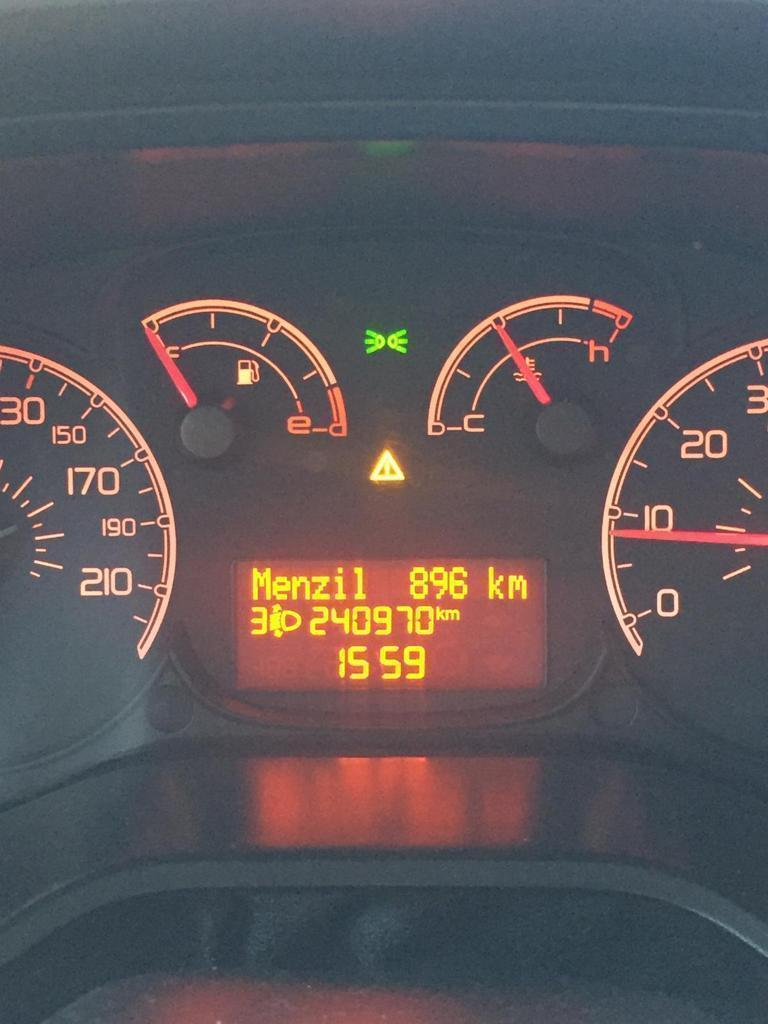0: (413, 604, 435, 636), (350, 604, 371, 636)
1: (334, 643, 345, 681)
2: (307, 604, 329, 637)
3: (248, 605, 268, 636)
4: (330, 605, 350, 636)
5: (376, 643, 401, 680), (346, 644, 370, 681)
6: (449, 564, 469, 602)
7: (394, 604, 413, 636)
8: (406, 565, 429, 600)
9: (401, 644, 426, 681), (371, 604, 393, 637), (429, 565, 447, 600)
X: (250, 564, 271, 602), (485, 563, 506, 601), (349, 564, 367, 602), (507, 572, 529, 601), (309, 574, 331, 601), (331, 565, 347, 601), (290, 574, 309, 601), (272, 574, 290, 602), (445, 607, 461, 621), (435, 604, 445, 621)
odometer: (225, 550, 552, 699)
